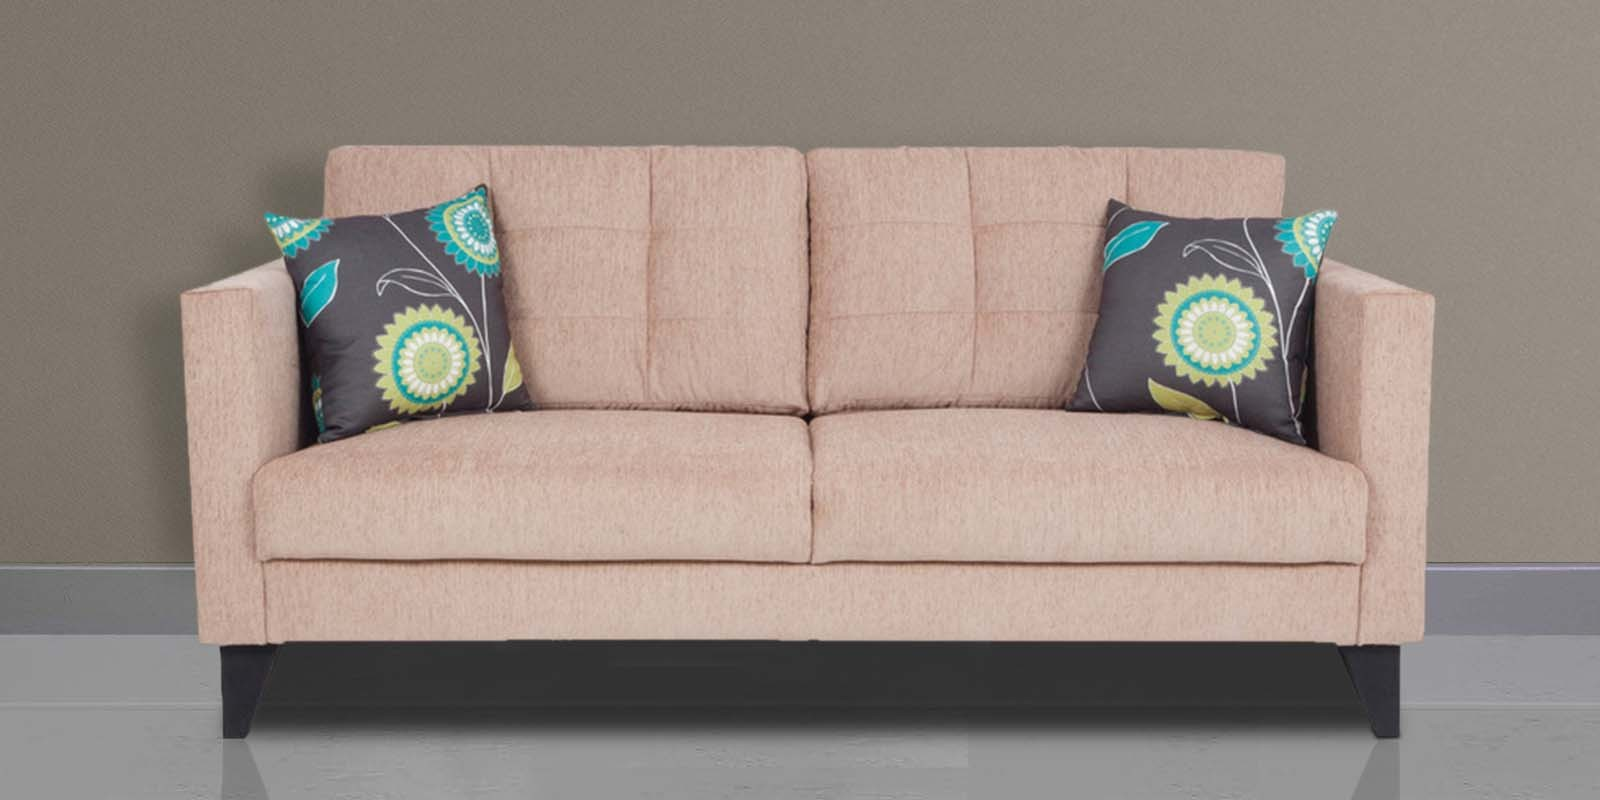Greenwich Three Seater Sofa in Beige Colour by Urban Living: (160, 127, 1466, 760)
